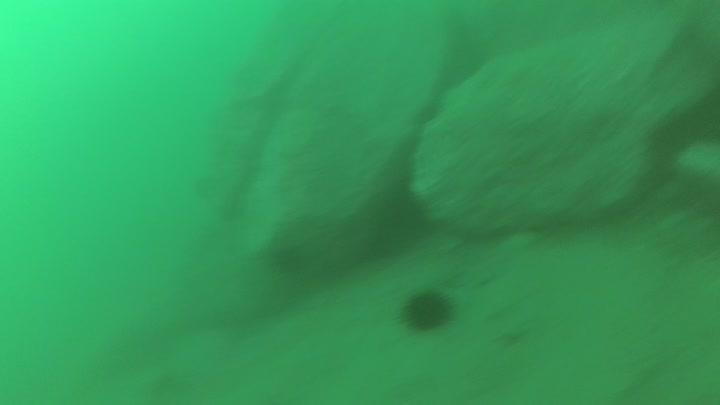echinus: (398, 285, 457, 335)
